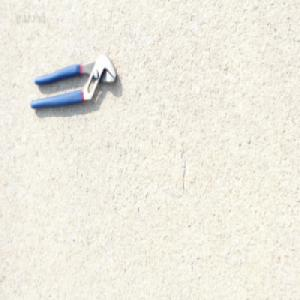Pliers: (30, 50, 119, 108)
